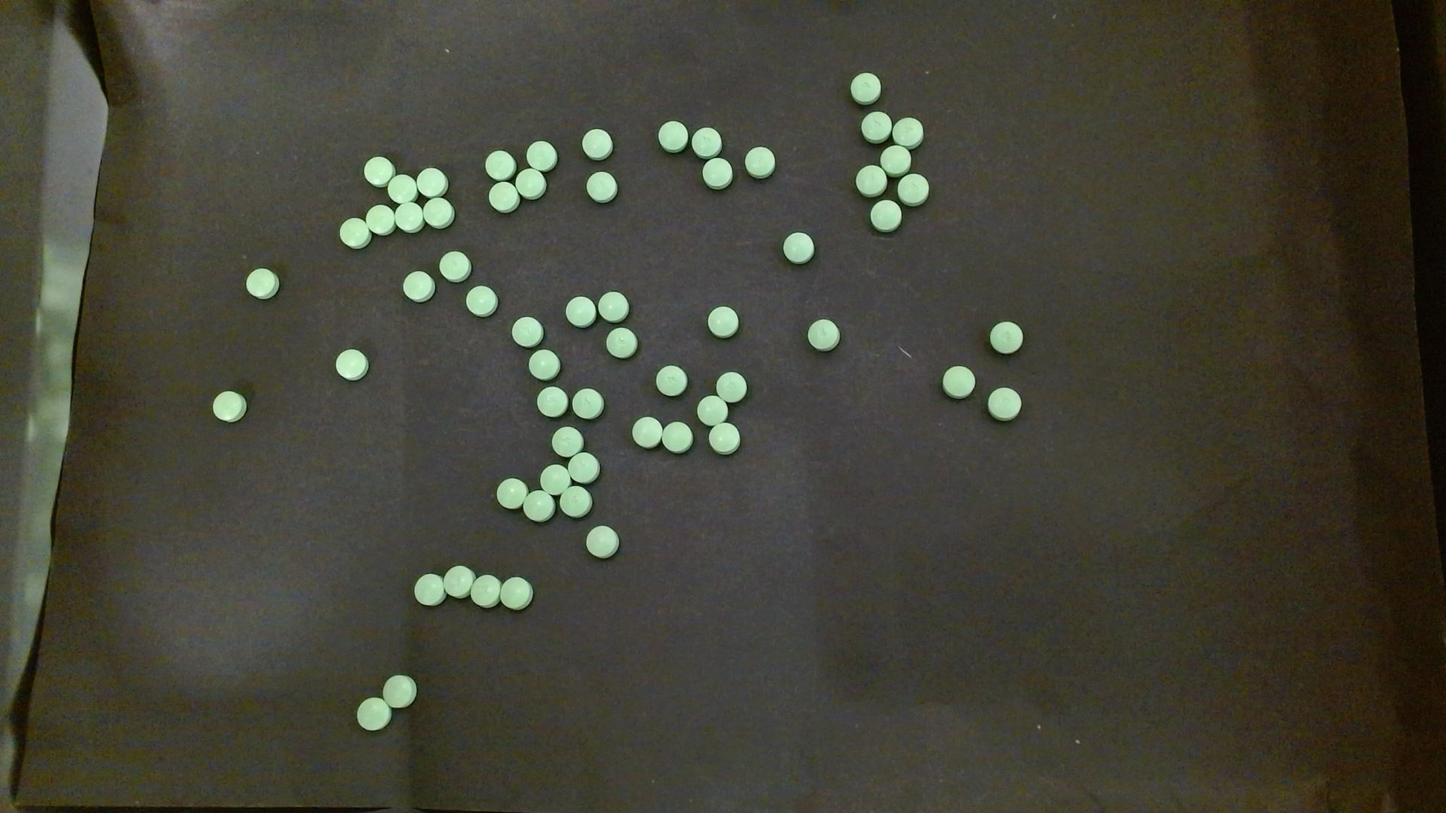Circle: (356, 697, 391, 731), (805, 318, 840, 352), (987, 387, 1021, 420), (989, 321, 1023, 354), (500, 576, 532, 610), (383, 674, 415, 708), (941, 365, 975, 397), (212, 390, 246, 422), (586, 525, 618, 558), (246, 267, 279, 299), (334, 348, 368, 379), (898, 172, 929, 206), (560, 485, 592, 517), (511, 315, 543, 347), (860, 110, 892, 142), (523, 489, 554, 522), (413, 573, 444, 606), (496, 477, 527, 510), (870, 199, 901, 232), (657, 120, 688, 153), (709, 422, 740, 454), (403, 270, 434, 302), (439, 251, 471, 282), (702, 157, 733, 189), (568, 451, 599, 483), (598, 291, 630, 322), (744, 146, 775, 178), (364, 155, 395, 187), (572, 387, 603, 419), (606, 327, 638, 358), (782, 232, 814, 263), (536, 385, 568, 416), (552, 425, 583, 457), (855, 164, 886, 196), (655, 365, 687, 396), (892, 116, 923, 148), (423, 197, 454, 229), (632, 416, 662, 449), (661, 422, 692, 453), (581, 128, 612, 159), (697, 395, 728, 426), (526, 140, 557, 171), (707, 306, 738, 337), (465, 285, 496, 316), (586, 171, 617, 202), (529, 349, 560, 380), (715, 371, 746, 402), (339, 218, 370, 249), (416, 166, 447, 197), (540, 463, 570, 495), (850, 72, 880, 104), (394, 200, 424, 232), (471, 574, 500, 607), (444, 565, 473, 598), (566, 296, 596, 327), (488, 181, 518, 212), (365, 204, 395, 235), (880, 144, 910, 175), (515, 168, 545, 199), (692, 126, 721, 158), (484, 149, 514, 179), (388, 174, 417, 204)
